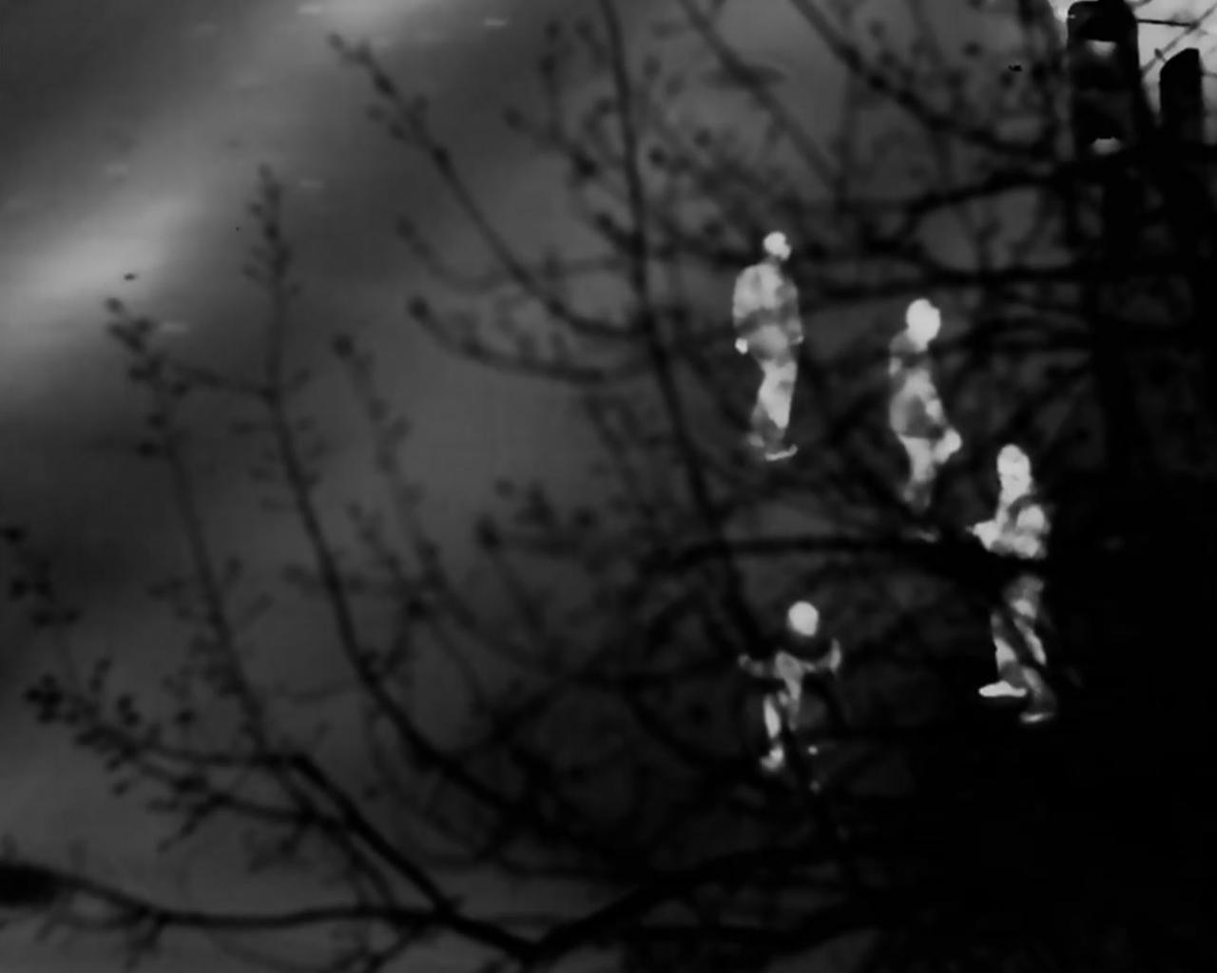person: (975, 443, 1060, 708), (729, 234, 825, 451), (879, 294, 956, 494), (761, 603, 851, 762)
